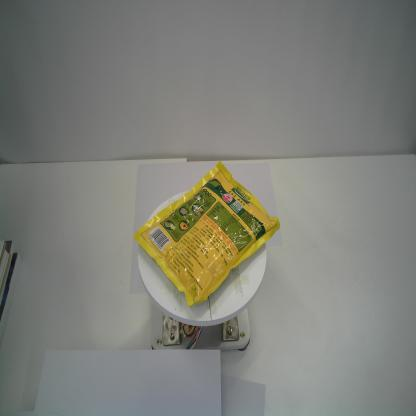Seasoner: (133, 162, 281, 308)
